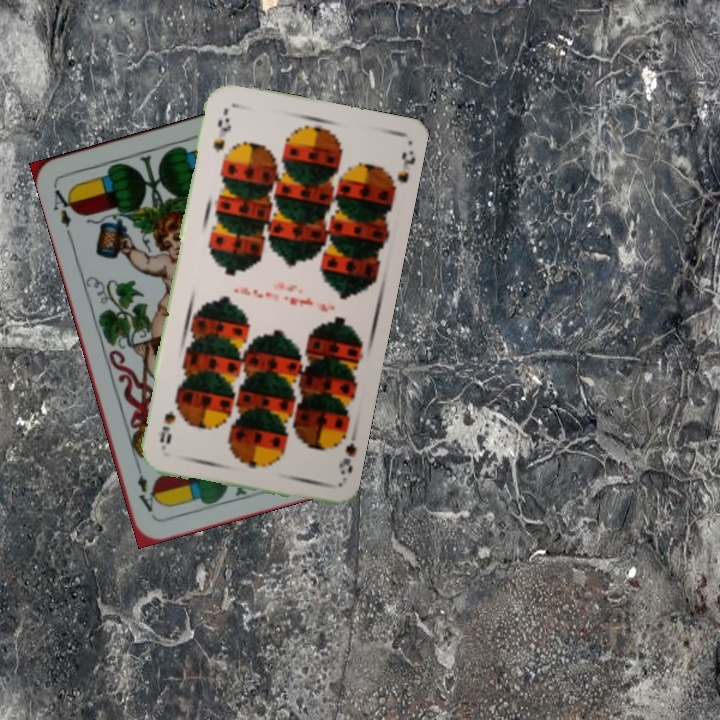EA: (49, 182, 79, 240)
S9: (331, 426, 355, 477), (209, 106, 233, 156)
